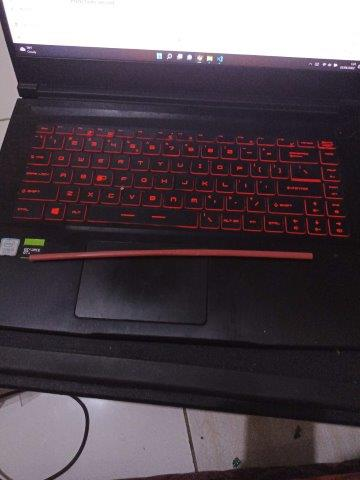sedotan: (29, 250, 313, 261)
